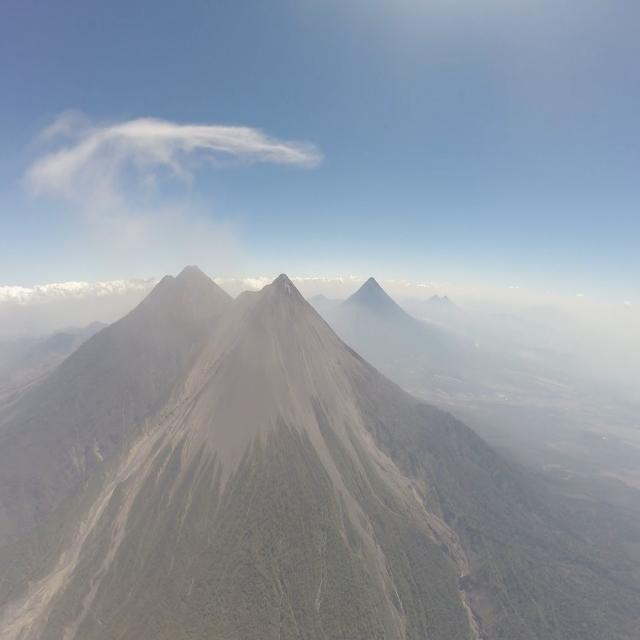Summit: (258, 270, 306, 301)
